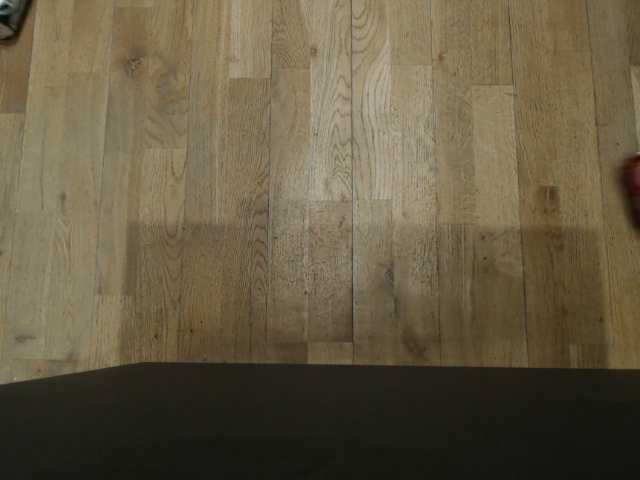beer: (0, 0, 23, 38)
